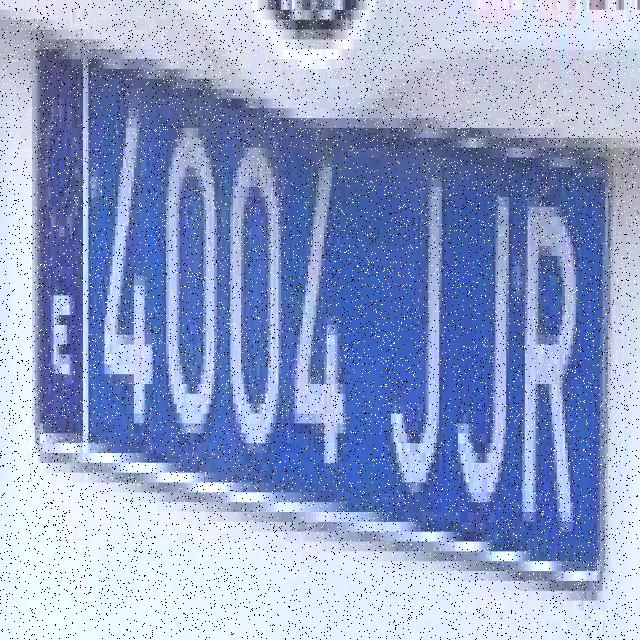licenseplate: (30, 21, 614, 596)
